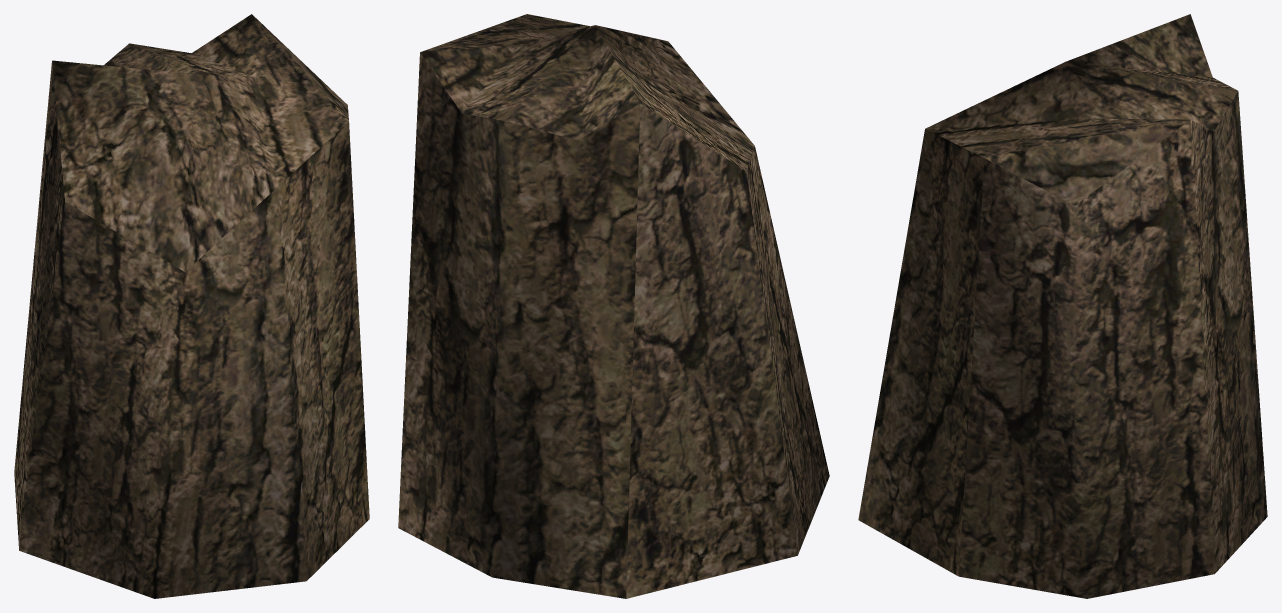
The model's file is Vegetation_Deadtree02a.glb.
The picture shows the model from 3 angles, left to right: view 1: azimuth 30°, elevation 25°; view 2: azimuth 150°, elevation 25°; view 3: azimuth 270°, elevation 25°; orthographic projection. The views are drawn at different scales.
Parts seen in each view (by area): view 1: xiutz_deadtree02a; view 2: xiutz_deadtree02a; view 3: xiutz_deadtree02a.
Part boxes in pixels (box(x1,y1,x2,y2)): xiutz_deadtree02a: box(14, 14, 369, 598); xiutz_deadtree02a: box(398, 14, 829, 598); xiutz_deadtree02a: box(858, 14, 1267, 598).
Size of the model in its own units: 1.9 by 2.3 by 1.86.
1 material, 1 textured.
